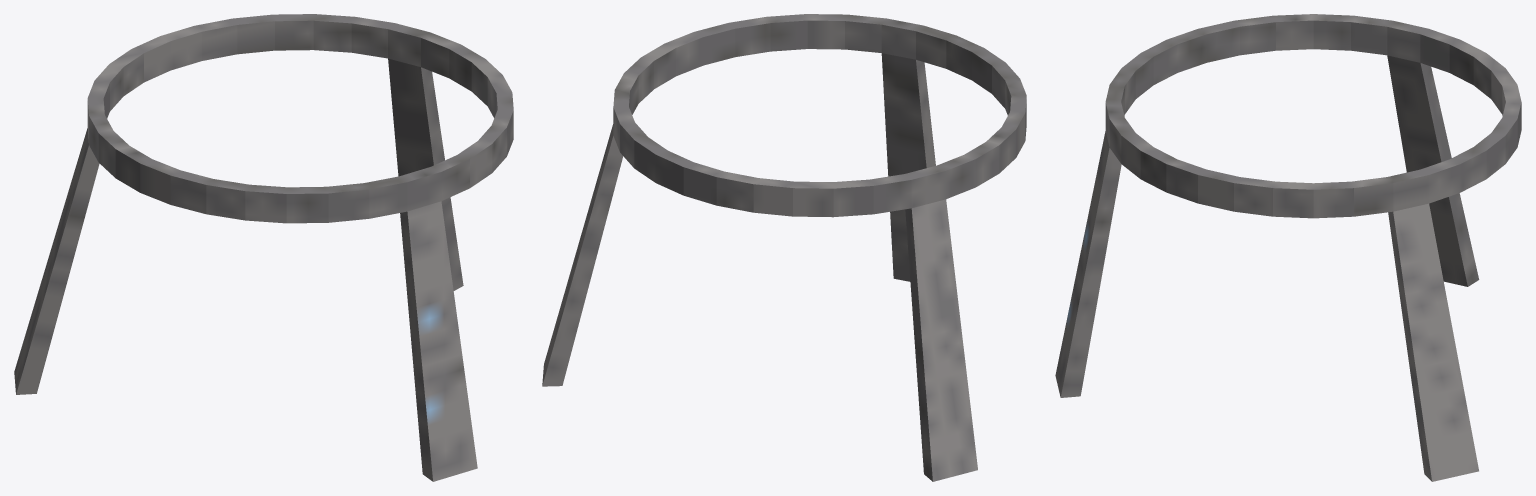
Rendered from SM_Dungeon_PotionStand.fbx.
3 renders of one model, left to right at view 1: azimuth 30°, elevation 25°; view 2: azimuth 150°, elevation 25°; view 3: azimuth 270°, elevation 25°, orthographic. The views are drawn at different scales.
Parts seen in each view (by area): view 1: SM_Dungeon_PotionStand; view 2: SM_Dungeon_PotionStand; view 3: SM_Dungeon_PotionStand.
Part boxes in pixels (x1,y1,x2,y2): SM_Dungeon_PotionStand: (14,14,513,481); SM_Dungeon_PotionStand: (542,14,1026,481); SM_Dungeon_PotionStand: (1055,14,1521,481).
Size of the model in its own units: 47.52 by 28.51 by 44.
